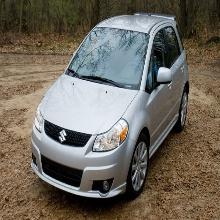no damage: (30, 12, 191, 200)
